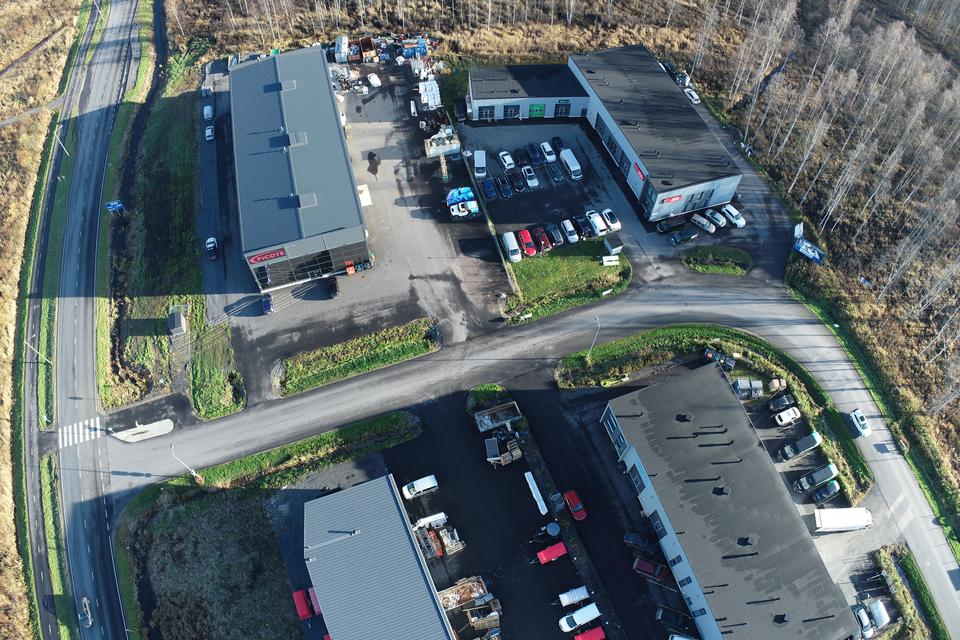intersection: (0, 388, 215, 542)
